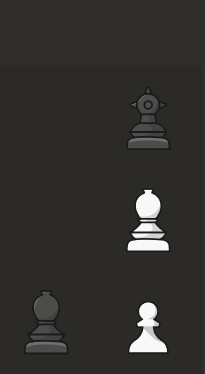F: (111, 71, 188, 159)
P: (115, 289, 181, 363)
W: (115, 173, 183, 259), (15, 277, 77, 363)
